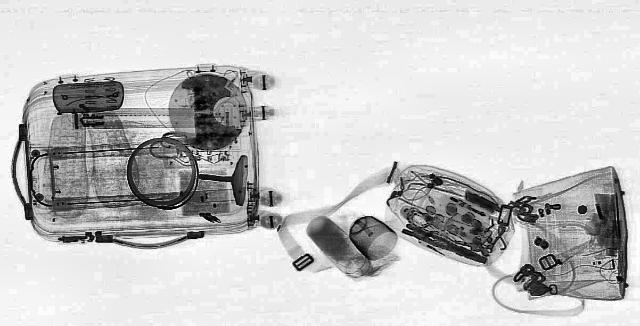Pliers: (394, 223, 496, 265)
